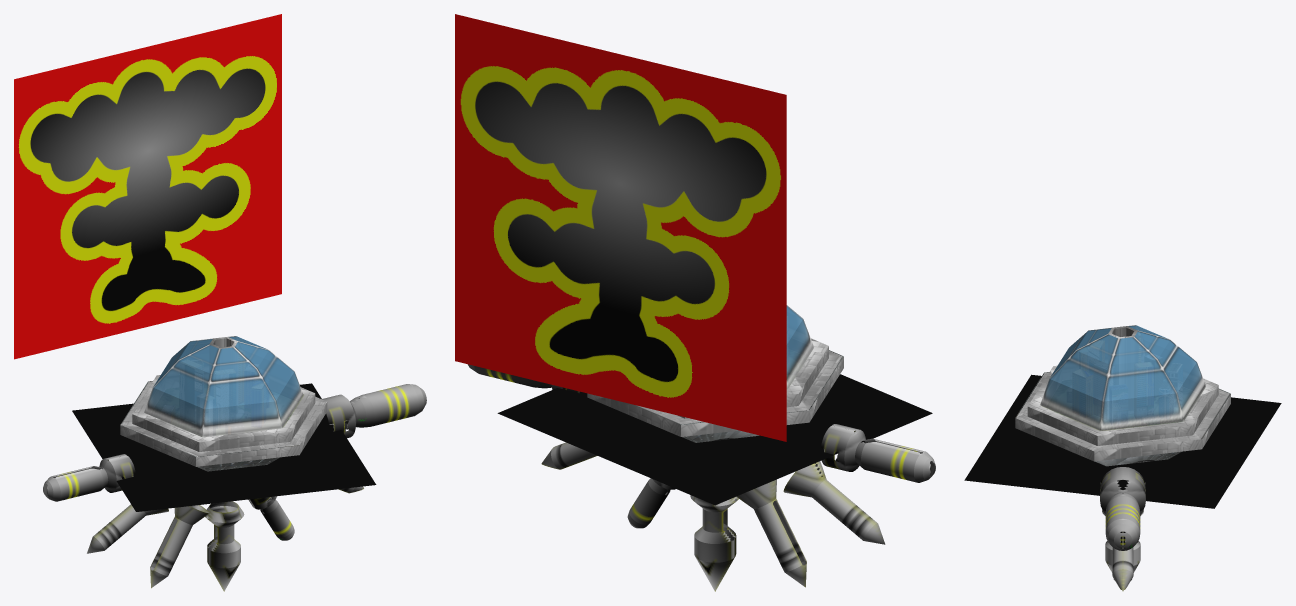
File: ld-pod-01b-hi-icon.dae
3 views of the same model, side by side, from view 1: azimuth 30°, elevation 25°; view 2: azimuth 150°, elevation 25°; view 3: azimuth 270°, elevation 25° (orthographic). The views are drawn at different scales.
Visible parts, largest first — view 1: Group3, drop_shadow, dome, core, bomb03, bomb02, gmissle01, missle02, missle03, bomb01; view 2: Group3, drop_shadow, core, bomb02, missle03, missle02, gmissle01, dome, bomb01, missle01, bomb03; view 3: drop_shadow, dome, core, bomb03, missle01.
Boxes of the visible parts, box(x1,y1,x2,y2) form: Group3: box(14, 14, 281, 359); drop_shadow: box(72, 383, 376, 511); dome: box(144, 336, 303, 437); core: box(120, 337, 327, 471); bomb03: box(321, 384, 426, 437); bomb02: box(43, 454, 135, 501); gmissle01: box(205, 501, 244, 591); missle02: box(150, 505, 209, 588); missle03: box(87, 504, 168, 553); bomb01: box(248, 496, 294, 540); Group3: box(455, 14, 786, 441); drop_shadow: box(497, 374, 932, 505); core: box(587, 338, 843, 442); bomb02: box(821, 424, 935, 482); missle03: box(783, 461, 885, 544); missle02: box(736, 479, 806, 587); gmissle01: box(690, 495, 738, 591); dome: box(786, 305, 813, 389); bomb01: box(627, 478, 675, 528); missle01: box(541, 442, 597, 469); bomb03: box(468, 364, 579, 392); drop_shadow: box(964, 374, 1281, 508); dome: box(1040, 325, 1205, 430); core: box(1015, 326, 1230, 466); bomb03: box(1100, 467, 1145, 550); missle01: box(1103, 511, 1142, 589).
Size of the model in its own units: 708 by 492 by 873.
